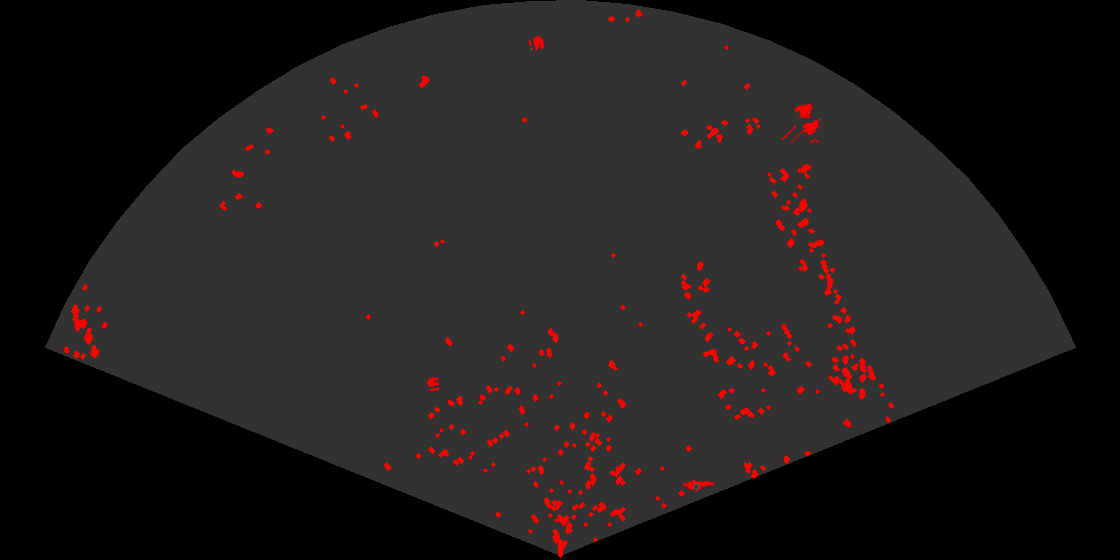ball: (527, 34, 546, 52), (425, 375, 441, 393)
cage: (782, 102, 823, 143)
frogman: (683, 478, 715, 494)
